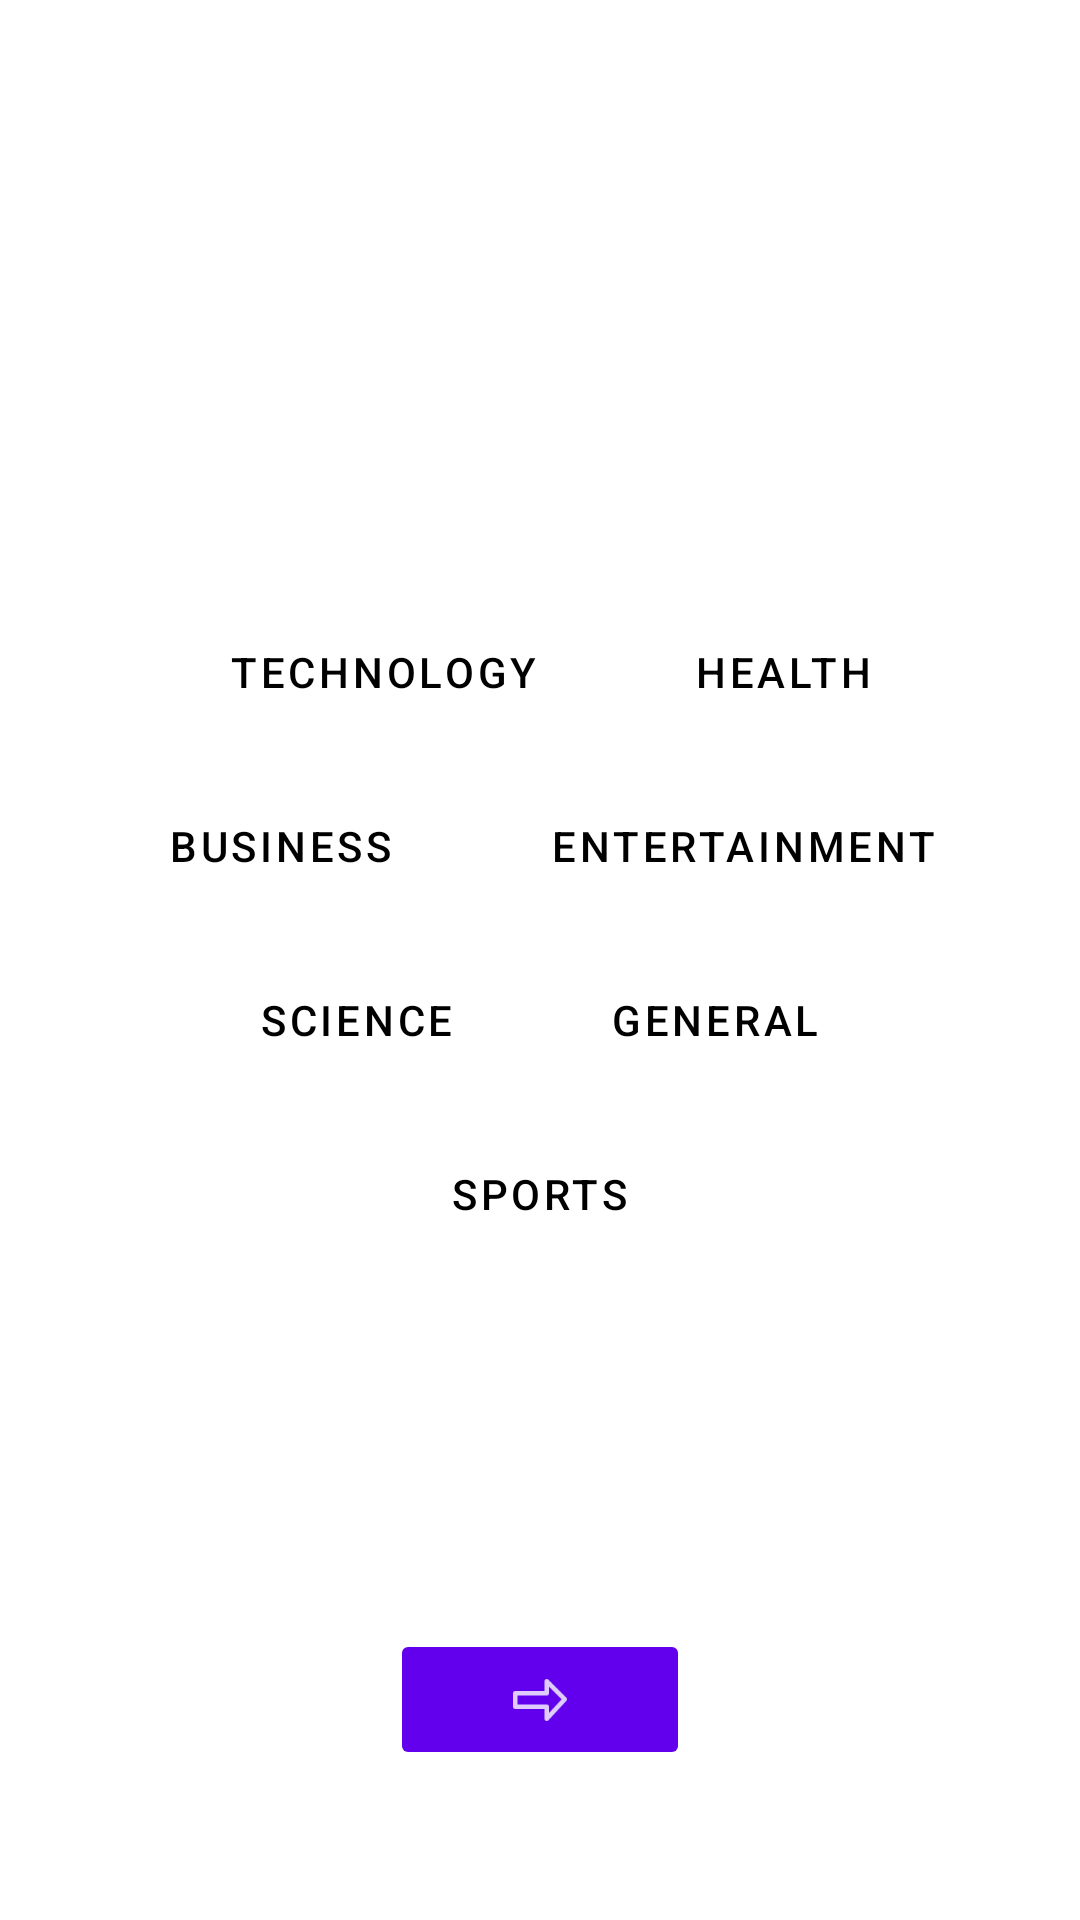

Locate icon controls on the screen. Image size 1080 x 1920, boxes as box=[x1, y1, x2, y2].
Continue to Dashboard: box=[402, 1647, 678, 1752]
